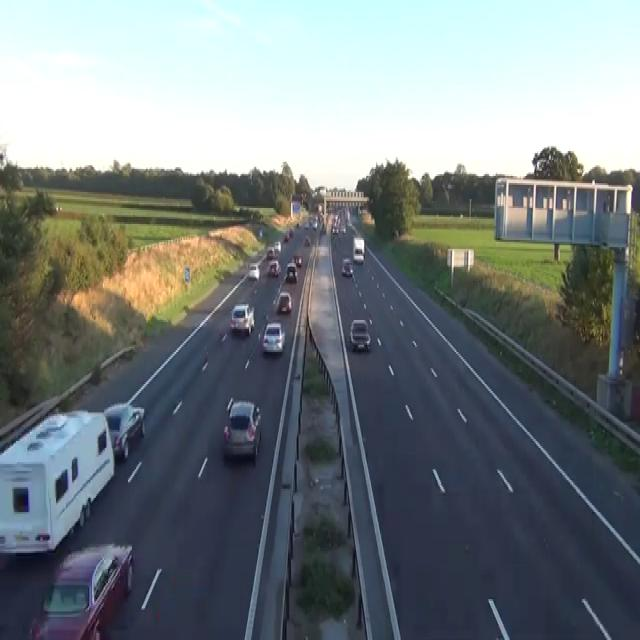Car: (29, 542, 133, 638), (223, 396, 261, 458), (103, 402, 145, 458), (229, 302, 254, 334), (261, 322, 285, 354), (349, 318, 370, 352), (277, 290, 292, 313), (285, 261, 297, 283), (341, 258, 353, 276), (248, 263, 259, 279), (269, 260, 280, 276), (353, 247, 363, 263), (308, 215, 318, 229), (266, 246, 275, 260), (0, 149, 6, 167), (293, 254, 301, 267), (273, 240, 281, 252), (54, 202, 62, 212), (303, 235, 310, 245), (332, 224, 338, 235), (303, 220, 309, 230), (340, 224, 346, 233), (312, 218, 317, 228), (258, 228, 262, 238), (289, 228, 294, 236), (283, 234, 288, 242), (321, 224, 325, 233), (447, 182, 453, 188), (295, 220, 299, 228)
Truck: (0, 407, 115, 560), (352, 237, 364, 263), (290, 201, 300, 219)
